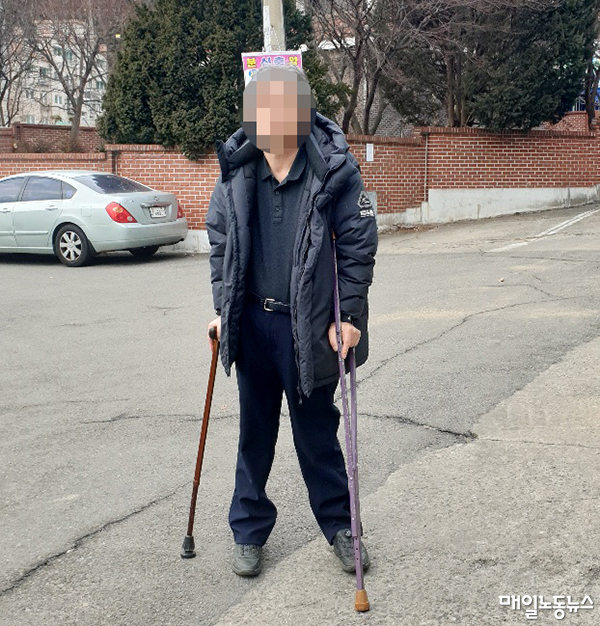crutches: (180, 66, 379, 613)
